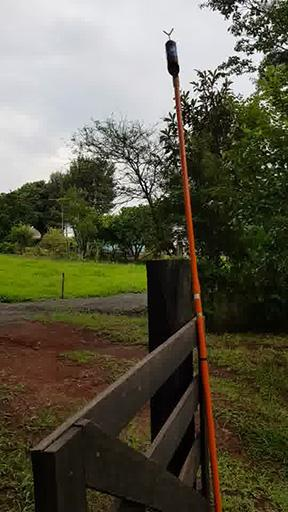Detector_Tensao_Contato: (161, 27, 180, 77)
Vara_Manobra: (170, 74, 222, 512)
